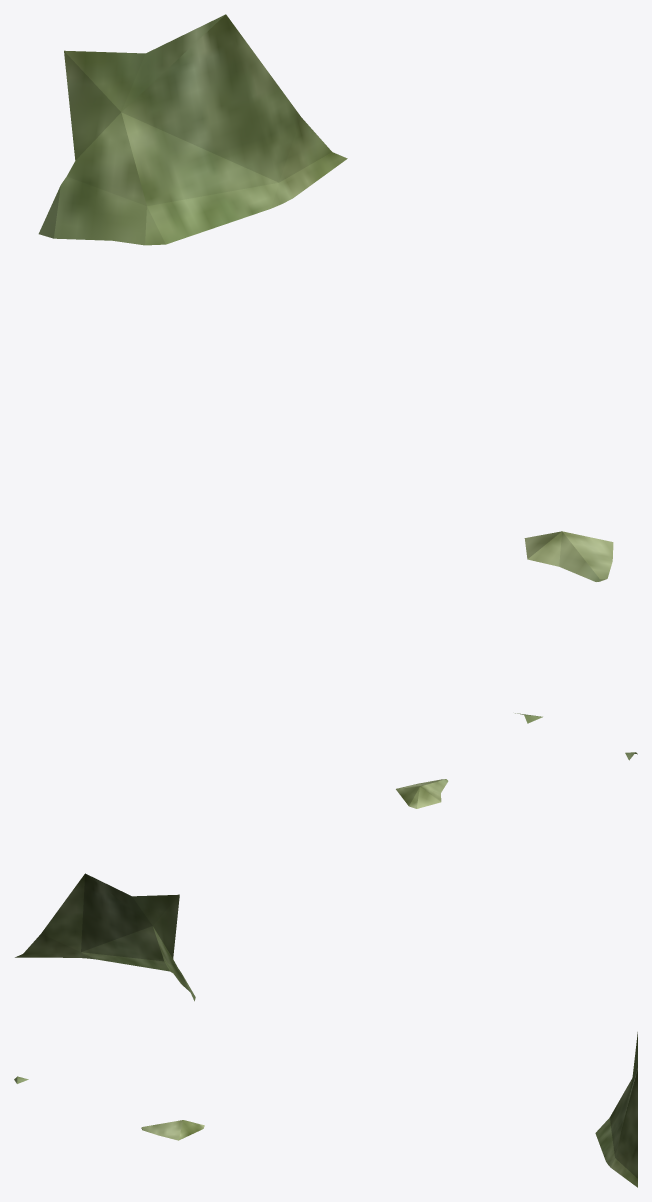
The picture shows the model from 3 angles, top to bottom: view 1: azimuth 30°, elevation 25°; view 2: azimuth 150°, elevation 25°; view 3: azimuth 270°, elevation 25°; orthographic projection. The views are drawn at different scales.
Bounding box in the file's own units: 0.7767 × 0.2959 × 1.89.
1 material, 1 textured.
